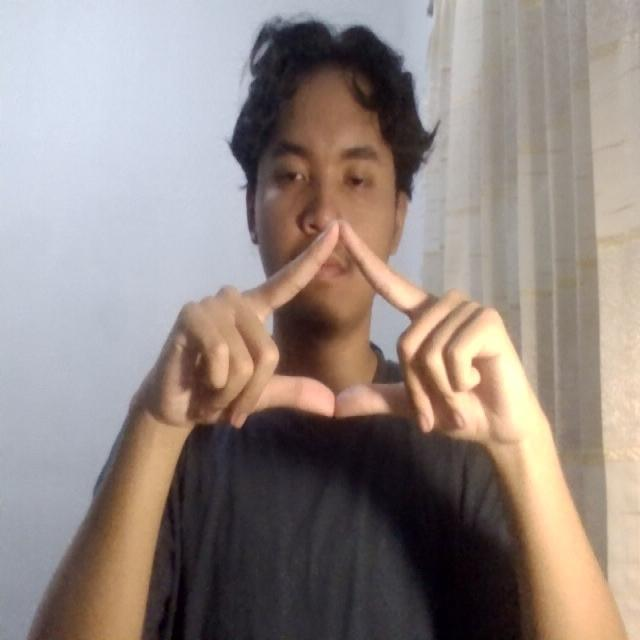A: (121, 207, 549, 450)
